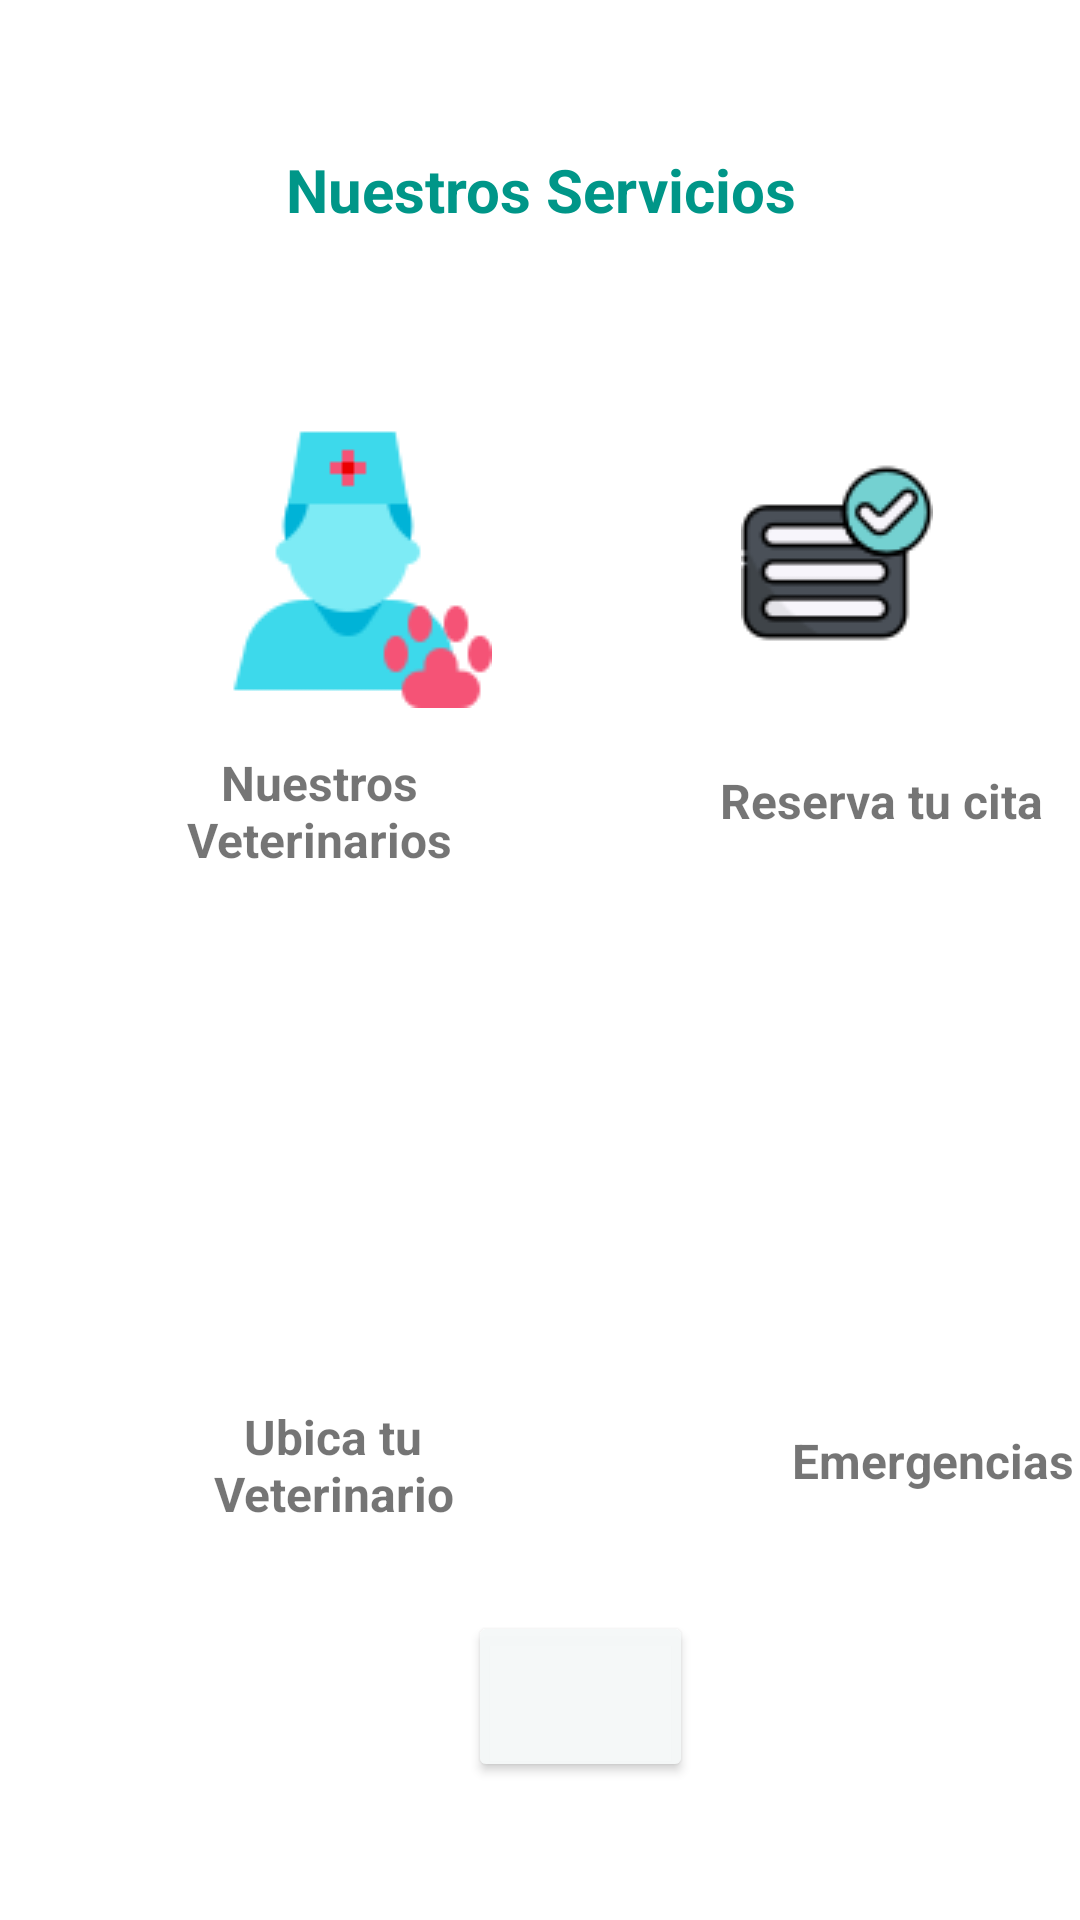

Named icons in this screenshot (1080px x 1920px) and their centers, [x,y]:
checkin: [837,553]
veterinarian male: [362,569]
